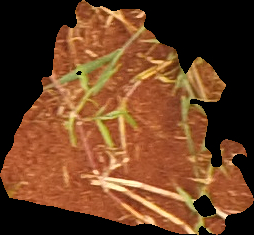soil: (4, 4, 252, 235)
